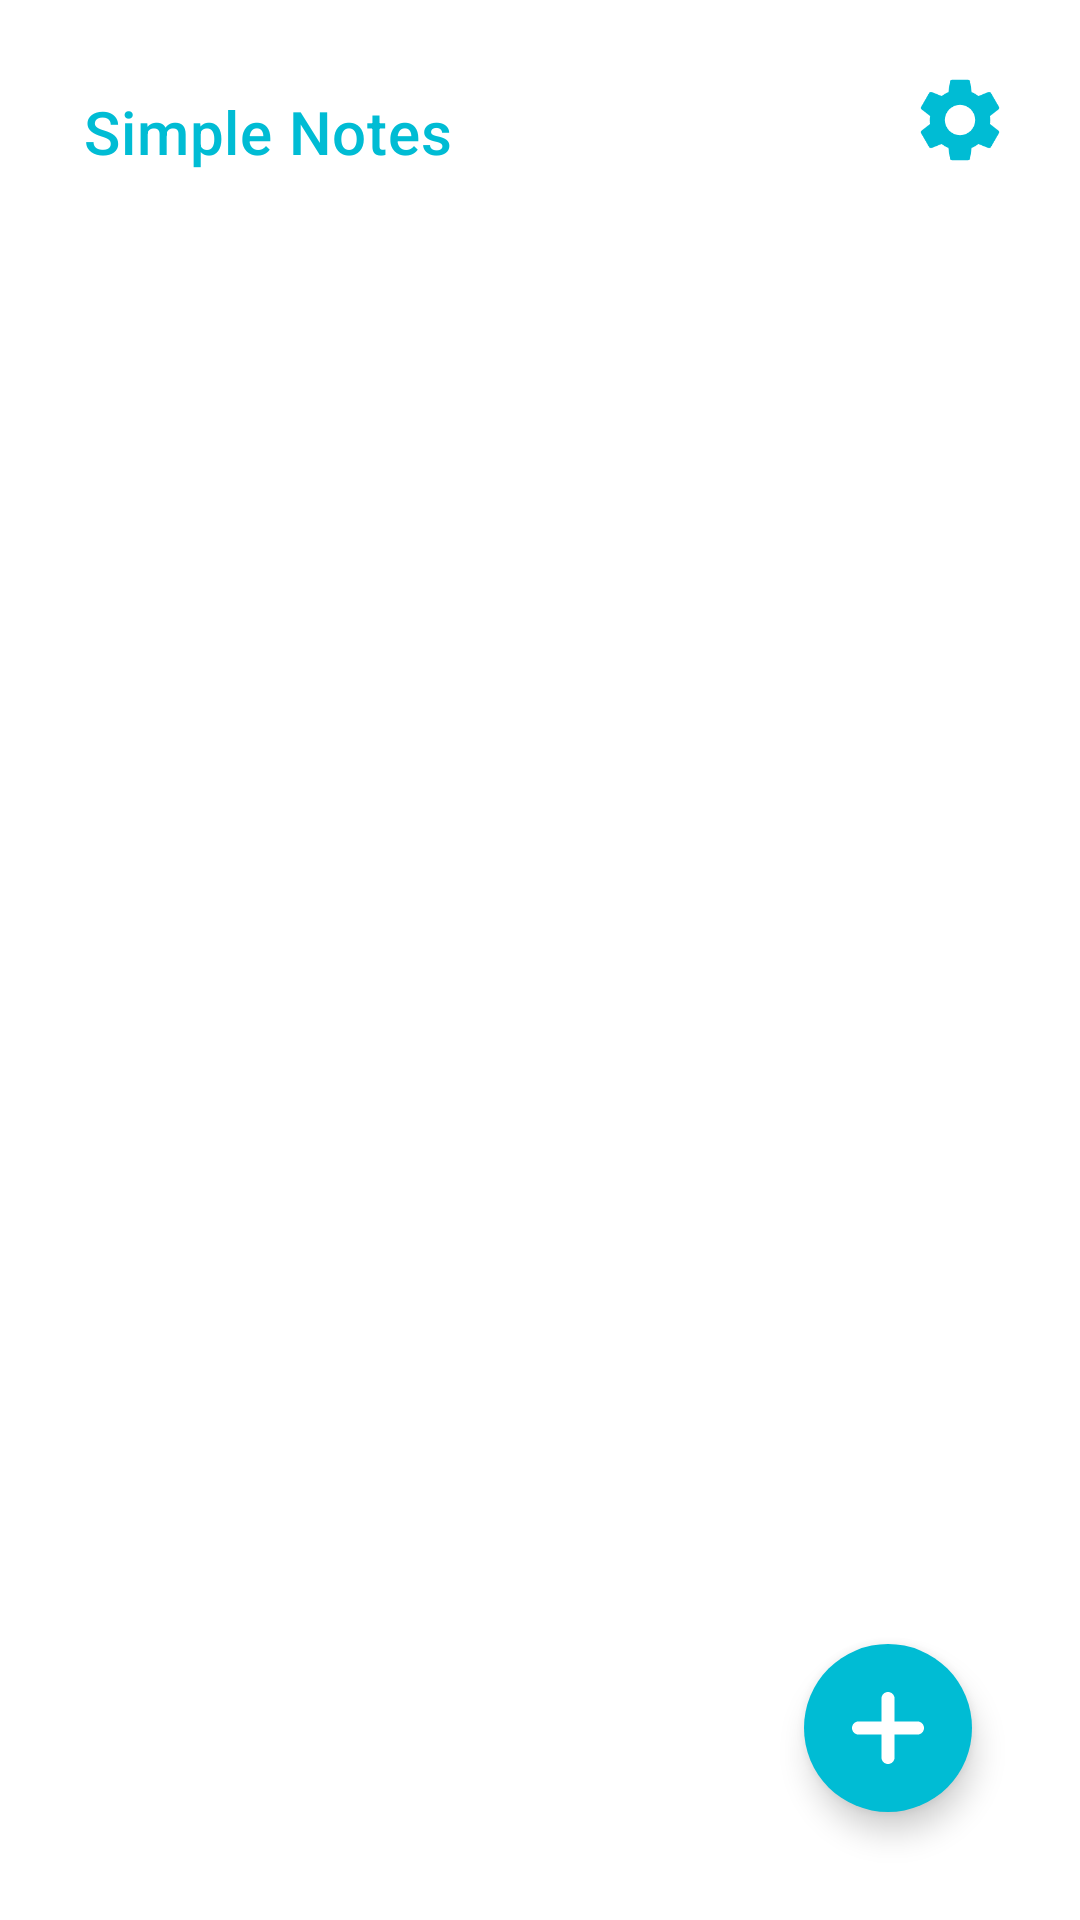

Icons on this 1080*1920 Android screen, each with the point to tap as [x,y]:
plus sign: [888,1728]
